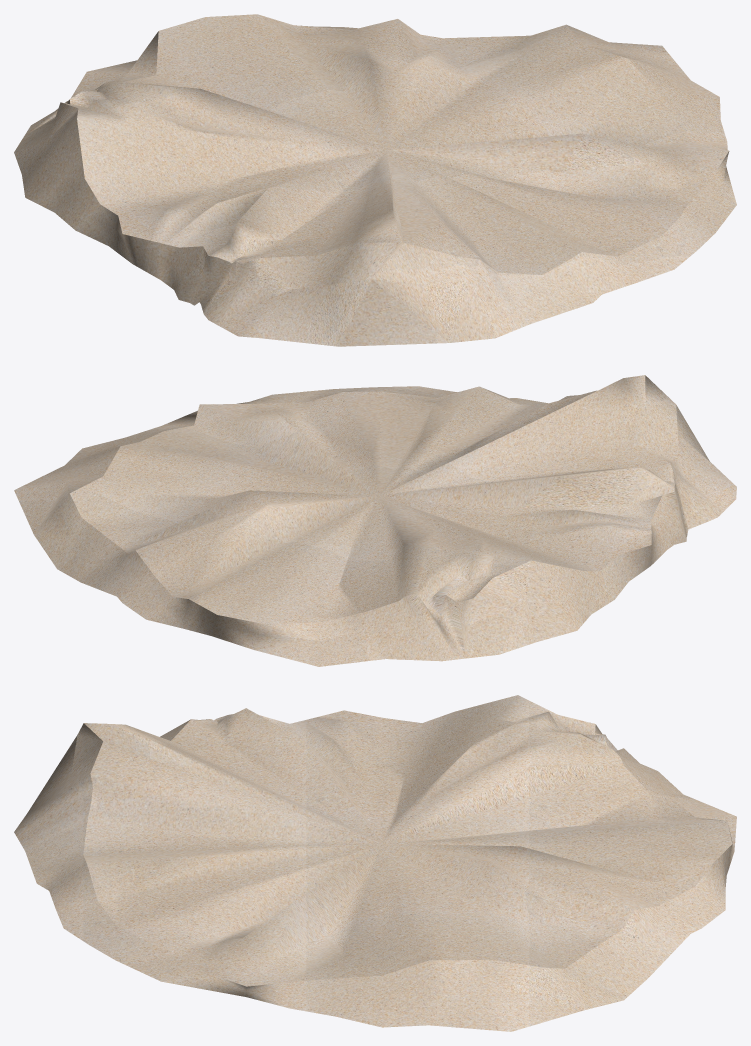
The model's file is Isla.obj.
3 views of the same model, one above another, from view 1: azimuth 30°, elevation 25°; view 2: azimuth 150°, elevation 25°; view 3: azimuth 270°, elevation 25° (orthographic). The views are drawn at different scales.
Parts seen in each view (by area): view 1: Isla1:pCylinder1; view 2: Isla1:pCylinder1; view 3: Isla1:pCylinder1.
Boxes of the visible parts, x1=… form: Isla1:pCylinder1: x1=14, y1=14, x2=736, y2=346; Isla1:pCylinder1: x1=14, y1=375, x2=736, y2=666; Isla1:pCylinder1: x1=14, y1=695, x2=736, y2=1031.
Bounding box in the file's own units: 5.08 × 0.8277 × 5.21.
Materials: 1 (1 with a texture image).
